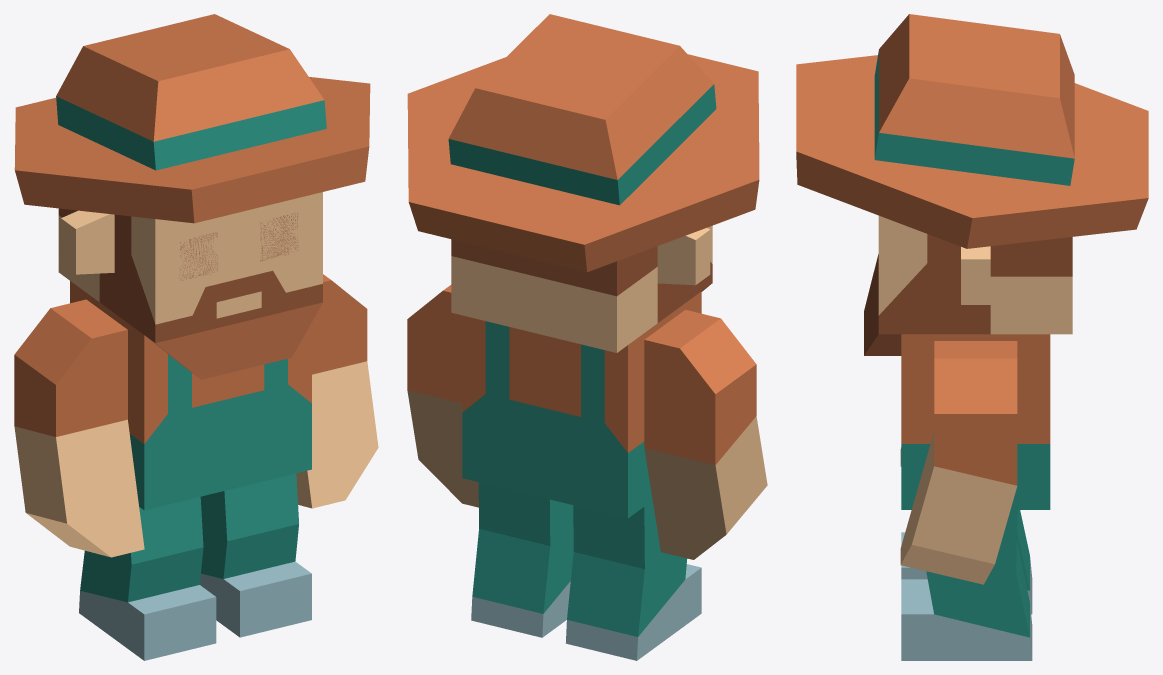
File: digger.dae
The picture shows the model from 3 angles, left to right: view 1: azimuth 30°, elevation 25°; view 2: azimuth 150°, elevation 25°; view 3: azimuth 270°, elevation 25°; orthographic projection.
Visible parts, largest first — view 1: head, armLeft, body, legLeft, legRight, armRight; view 2: head, body, armLeft, legLeft, legRight, armRight; view 3: head, armRight, legRight, body, legLeft.
Boxes of the visible parts, box(x1,y1,x2,y2) form: head: box(14, 14, 370, 379); armLeft: box(14, 299, 144, 557); body: box(70, 281, 311, 510); legLeft: box(79, 497, 216, 660); legRight: box(200, 473, 311, 637); armRight: box(296, 274, 378, 508); head: box(407, 14, 759, 352); body: box(462, 291, 701, 518); armLeft: box(644, 310, 767, 559); legLeft: box(565, 501, 701, 660); legRight: box(471, 482, 573, 637); armRight: box(407, 285, 478, 507); head: box(796, 14, 1148, 355); armRight: box(900, 341, 1017, 584); legRight: box(901, 510, 1032, 660); body: box(901, 334, 1050, 509); legLeft: box(901, 510, 1032, 614).
Bounding box in the file's own units: 0.5516 × 0.8487 × 0.4727.
